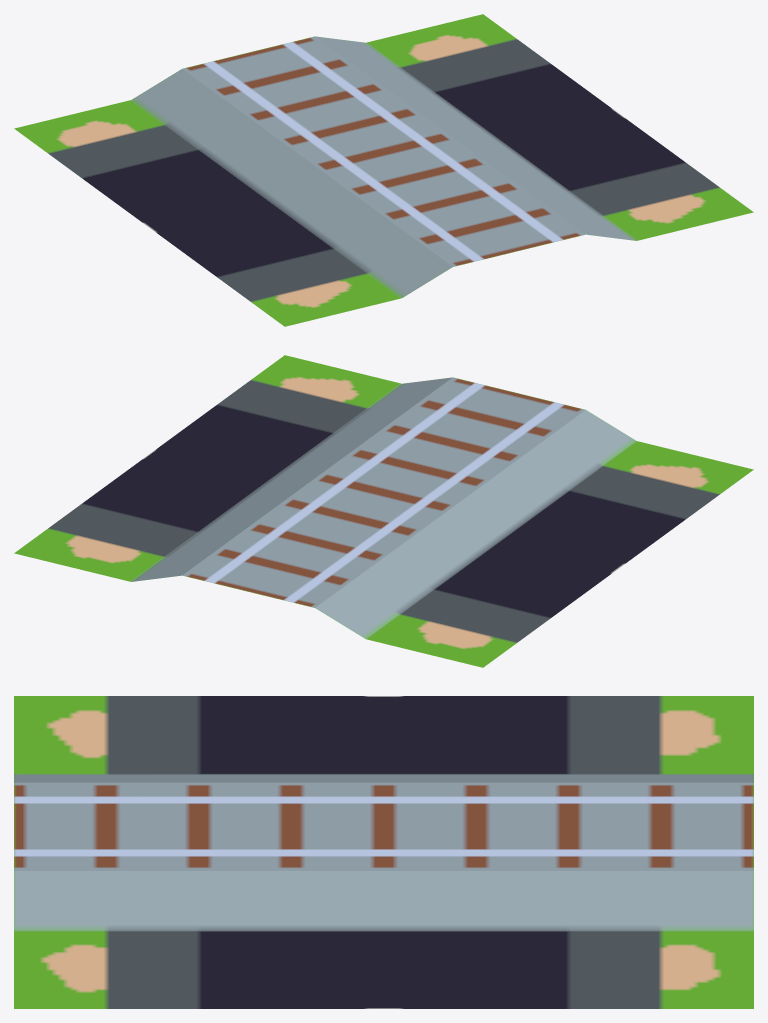
Rendered from InterseccionTren.fbx.
3 renders of one model, top to bottom at view 1: azimuth 30°, elevation 25°; view 2: azimuth 150°, elevation 25°; view 3: azimuth 270°, elevation 25°, orthographic. The views are drawn at different scales.
Parts seen in each view (by area): view 1: InterseccionTren; view 2: InterseccionTren; view 3: InterseccionTren.
Boxes of the visible parts, box(x1,y1,x2,y2) form: InterseccionTren: box(14, 14, 753, 326); InterseccionTren: box(14, 355, 753, 667); InterseccionTren: box(14, 696, 753, 1008).
Size of the model in its own units: 1000 by 38.24 by 1000.
